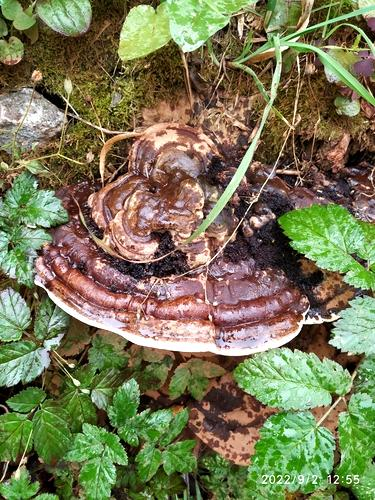Ganoderma - Fruit Body: (35, 126, 371, 358)
